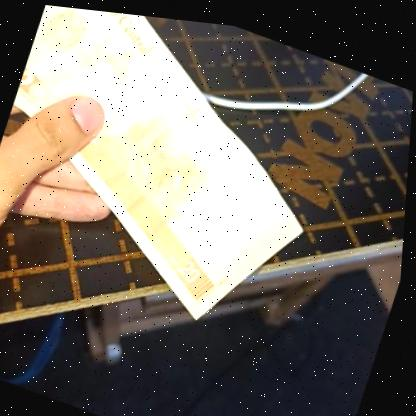twenty-back-vef: (0, 20, 342, 345)
